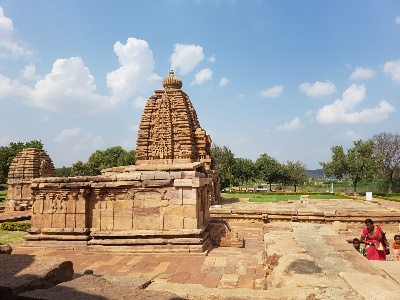amalaka: (154, 73, 188, 93)
gopuram: (131, 89, 209, 160)
